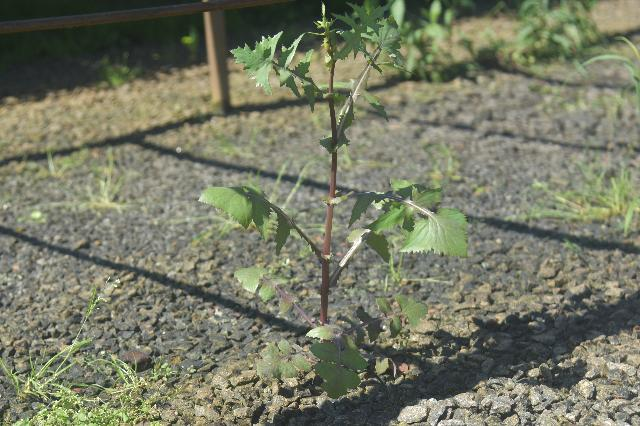MalezaMontesDelPlata: (197, 1, 472, 397), (0, 339, 188, 426), (525, 151, 638, 243)
